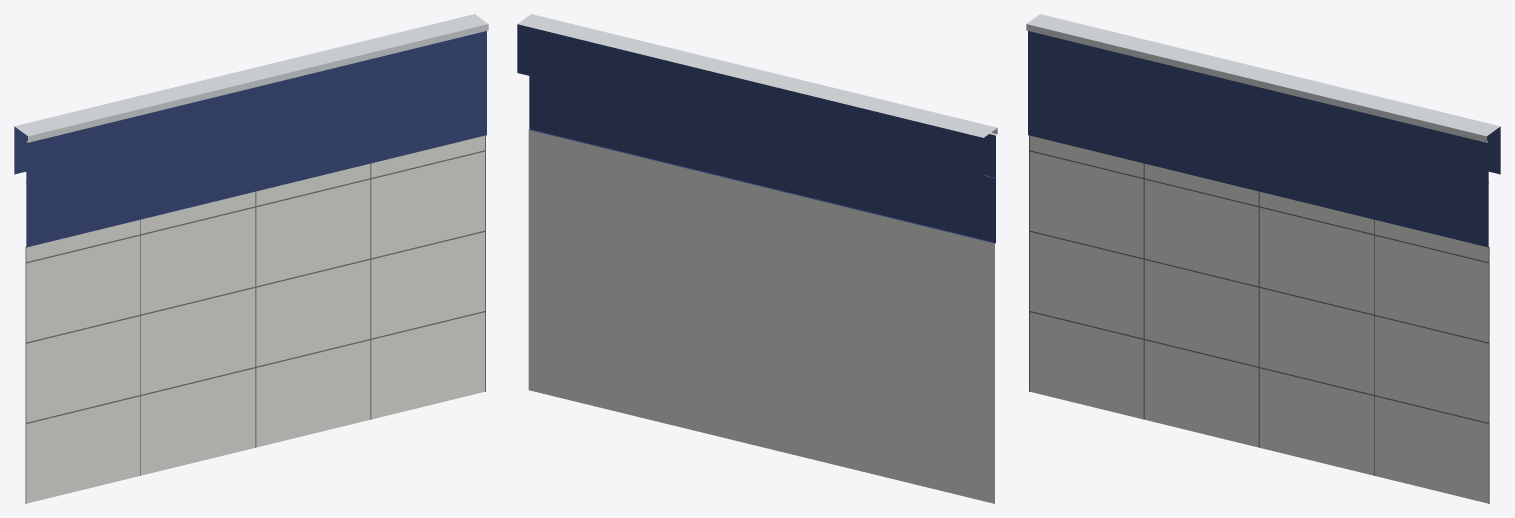
Rendered from top-w1.fbx.
The picture shows the model from 3 angles, left to right: view 1: azimuth 30°, elevation 25°; view 2: azimuth 150°, elevation 25°; view 3: azimuth 330°, elevation 25°; orthographic projection.
Visible parts, largest first — view 1: a2013/200/top-w1; view 2: a2013/200/top-w1; view 3: a2013/200/top-w1.
Part boxes in pixels (box(x1,y1,x2,y2)): a2013/200/top-w1: box(14, 14, 488, 503); a2013/200/top-w1: box(517, 14, 997, 503); a2013/200/top-w1: box(1026, 14, 1500, 503).
Size of the model in its own units: 6 by 4.6 by 0.31.
